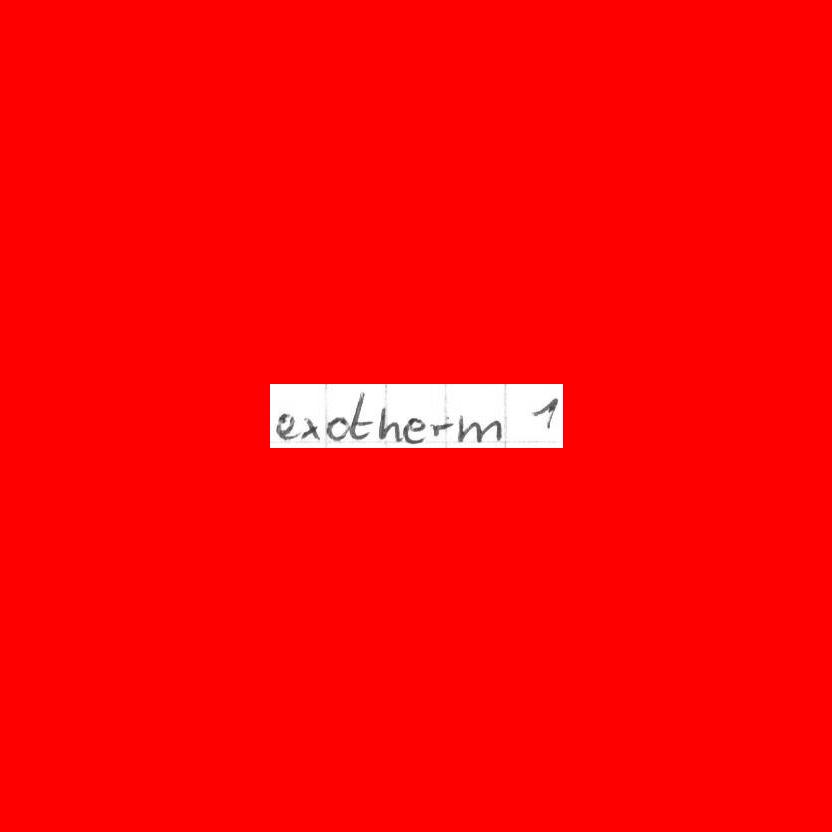Char: (456, 415, 506, 444), (530, 393, 562, 432), (346, 393, 370, 442), (377, 404, 400, 442), (402, 416, 425, 443), (275, 410, 296, 439), (299, 416, 322, 441), (325, 415, 344, 443), (428, 417, 453, 438)
